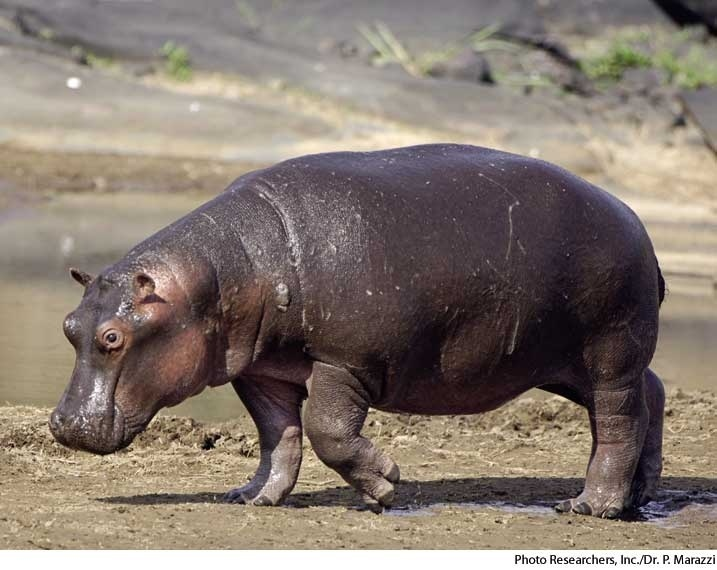hipopotamo: (30, 128, 679, 531)
